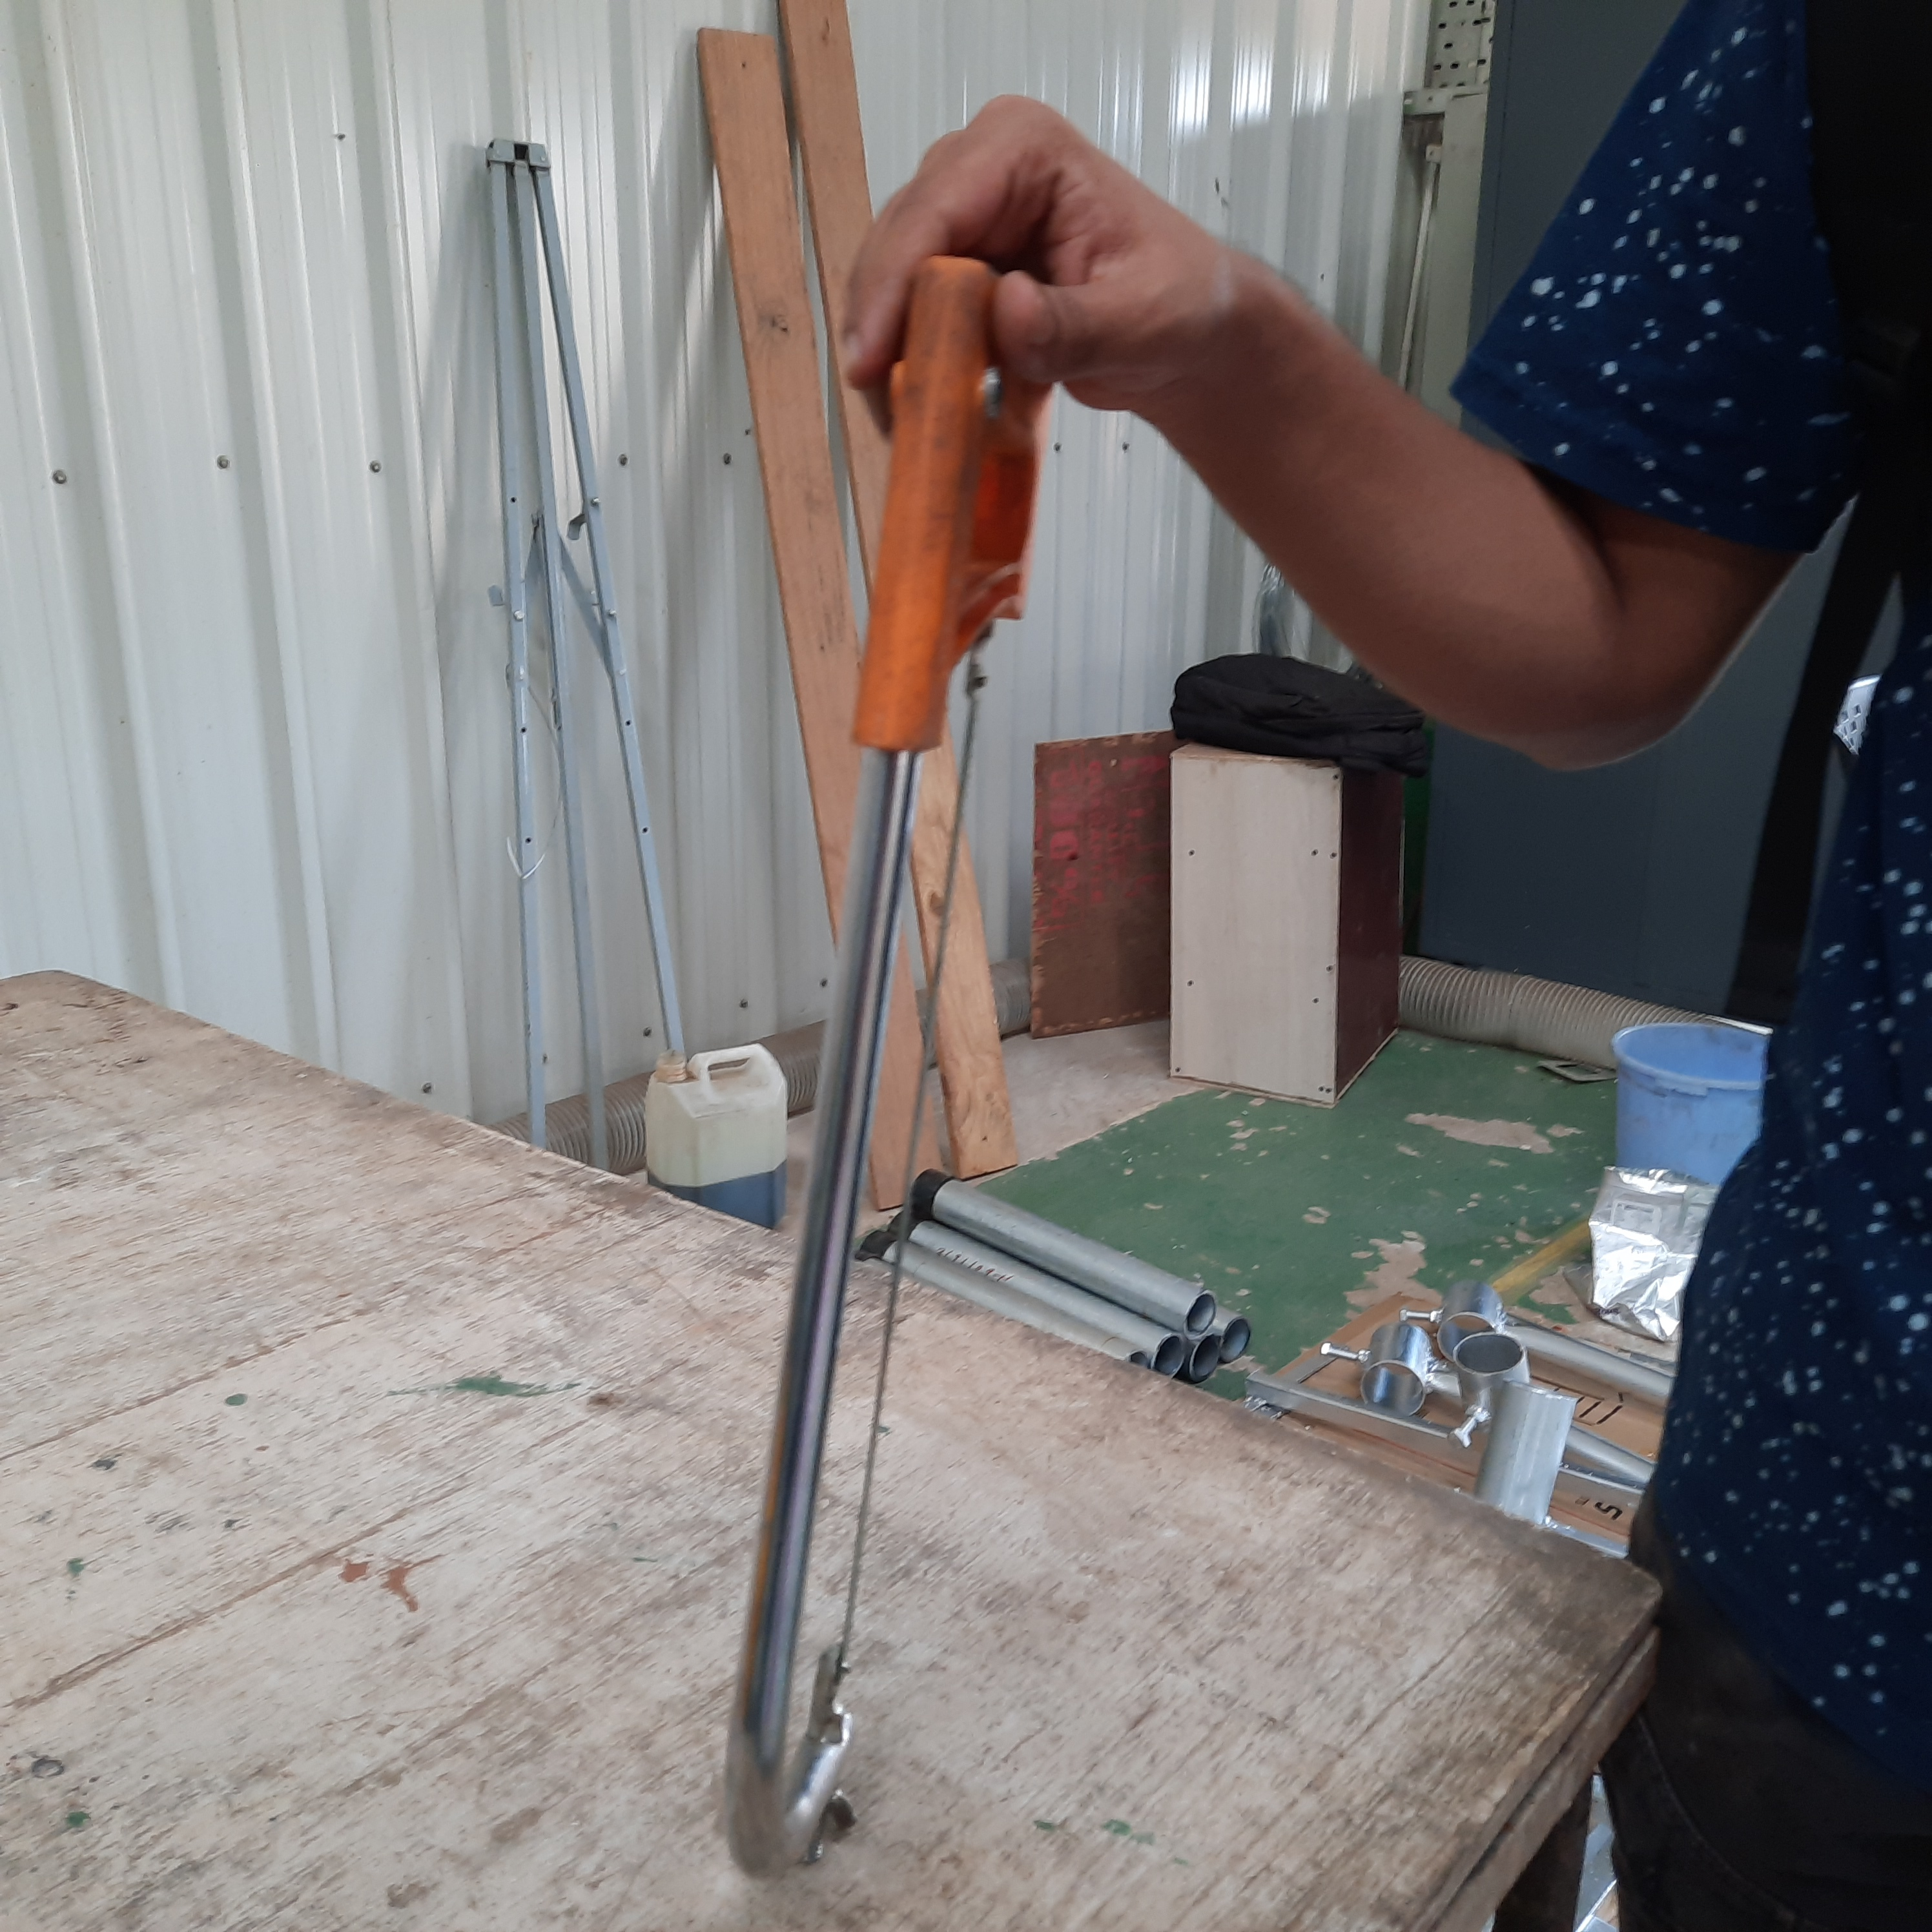Hexaframe: (658, 264, 1097, 1886)
